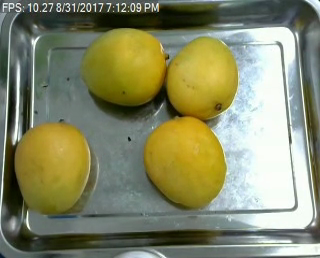Mango: (141, 113, 234, 212), (14, 120, 96, 217), (82, 24, 170, 107), (167, 33, 243, 117)
